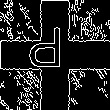P_S: (37, 30, 73, 80)
